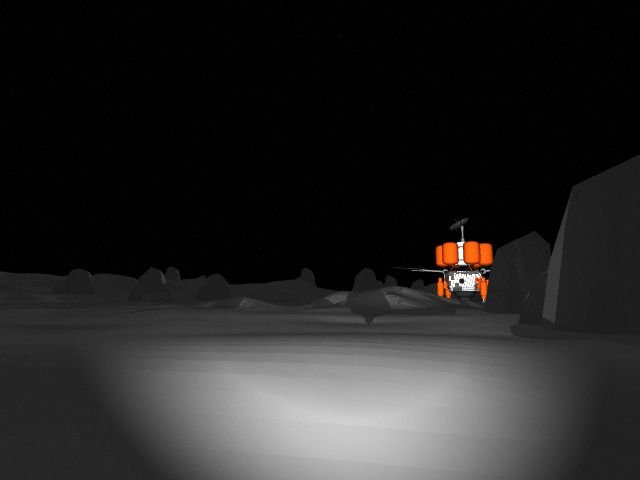homebase: (390, 213, 525, 307)
